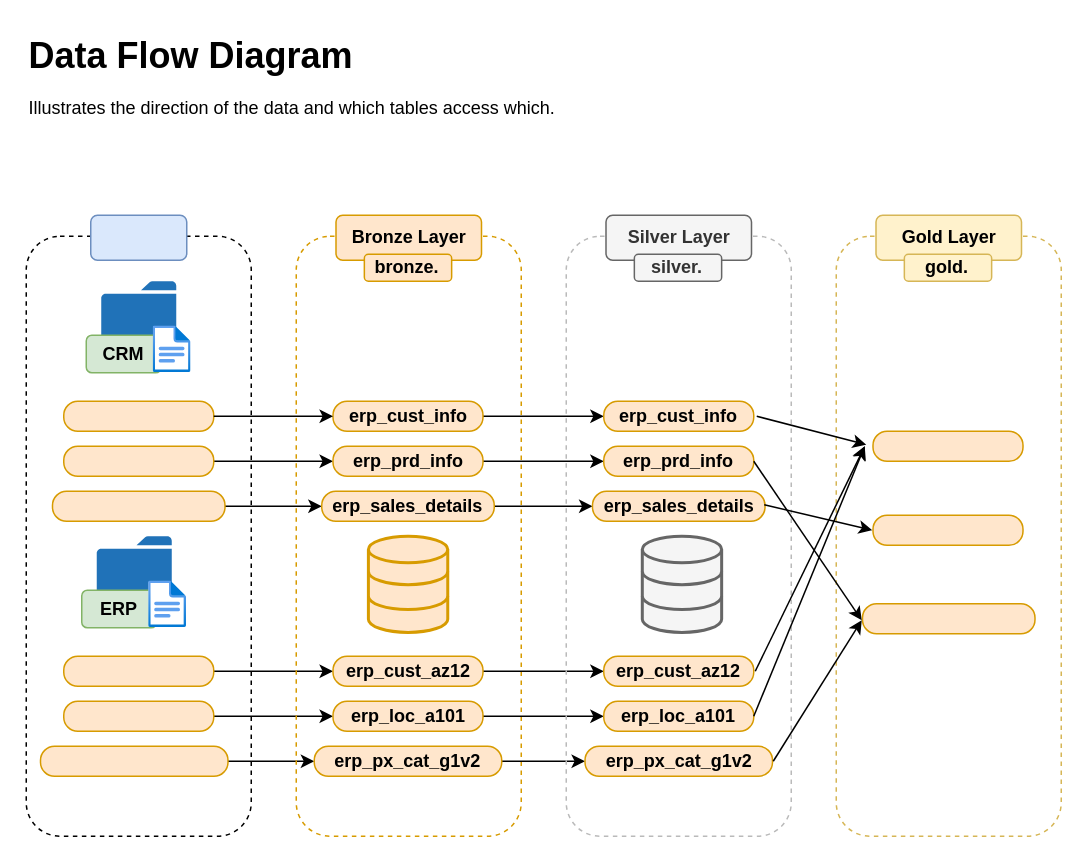
This 1088x863 diagram has some shape labels left out. Here are the shapes that lost their labels. From the top down, the centre of each, then its label:
point (138, 237): Raw Data
point (138, 415): cust_info.csv
point (138, 460): prd_info.csv
point (947, 445): dim_customers
point (138, 505): sales_details.csv
point (947, 529): fact_sales
point (948, 618): dim_products
point (138, 670): CUST_AZ12.csv
point (138, 715): LOC_A101.csv
point (133, 760): PX_CAT_G1V2.csv
